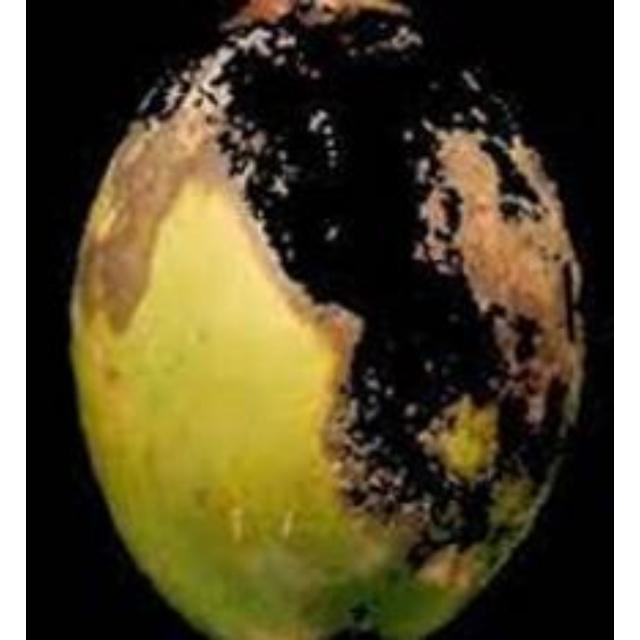damaged: (67, 0, 603, 637)
